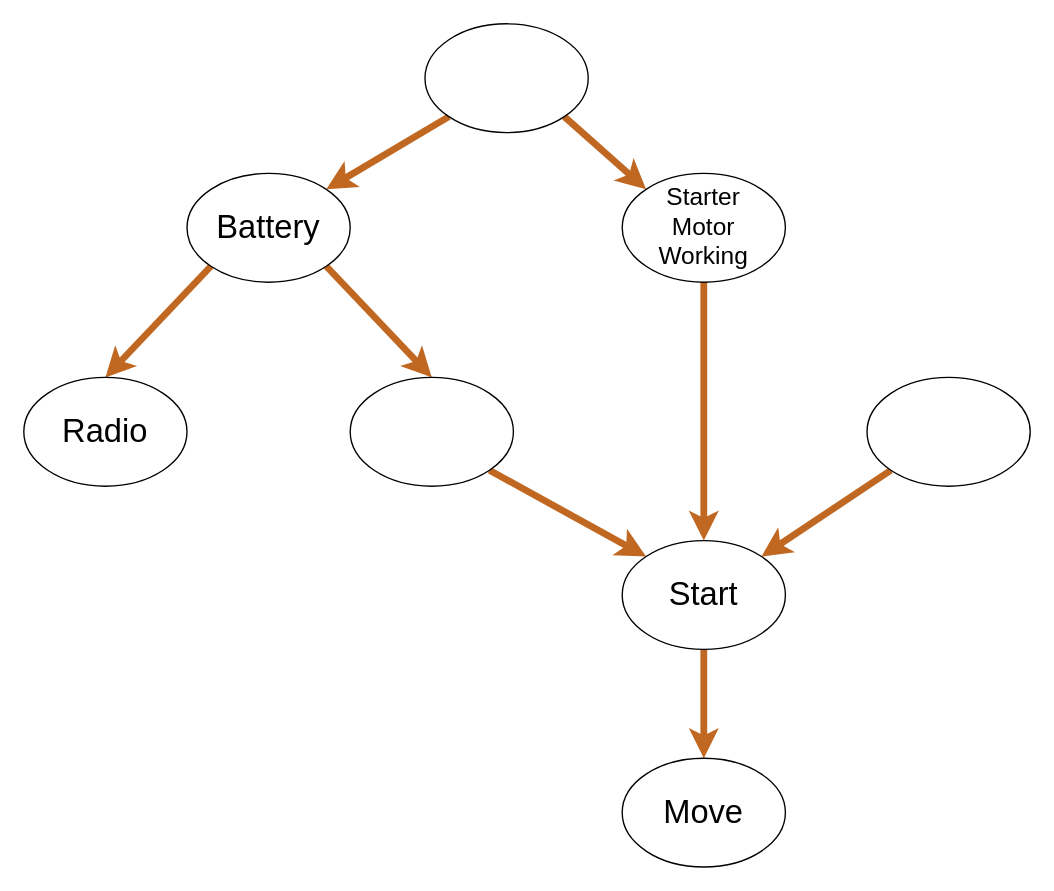
This 1054x891 diagram has some shape labels left out. The box of each missing label's shape, as (x1, y1, x2, y2) in pixels:
Gas: (866, 376, 1030, 486)
Icy Weather: (424, 22, 588, 133)
Ignition: (349, 376, 513, 486)
